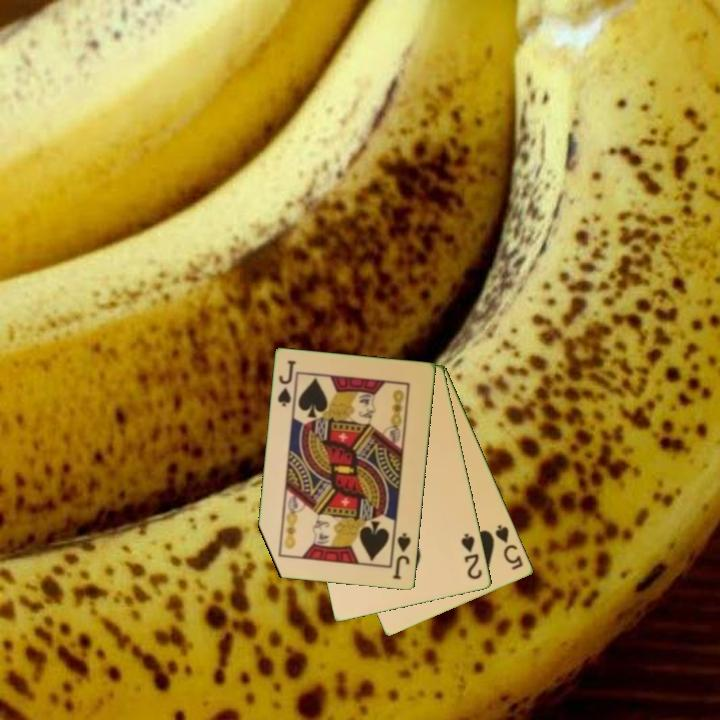2s: (458, 530, 485, 582)
5s: (492, 521, 526, 573)
Js: (389, 529, 414, 582), (274, 357, 299, 410)
